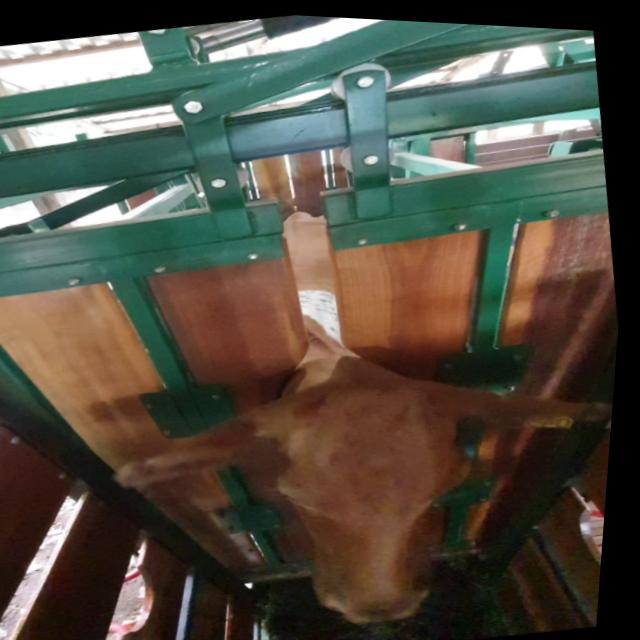cowFace: (258, 361, 508, 640)
